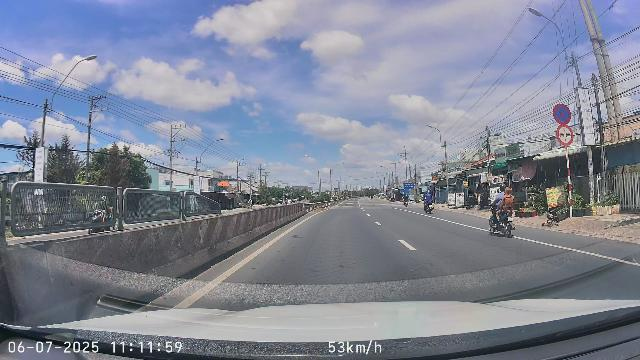125-cam-vuot: (556, 125, 574, 146)
130-cam-dung-va-do-xe: (553, 103, 571, 124)
